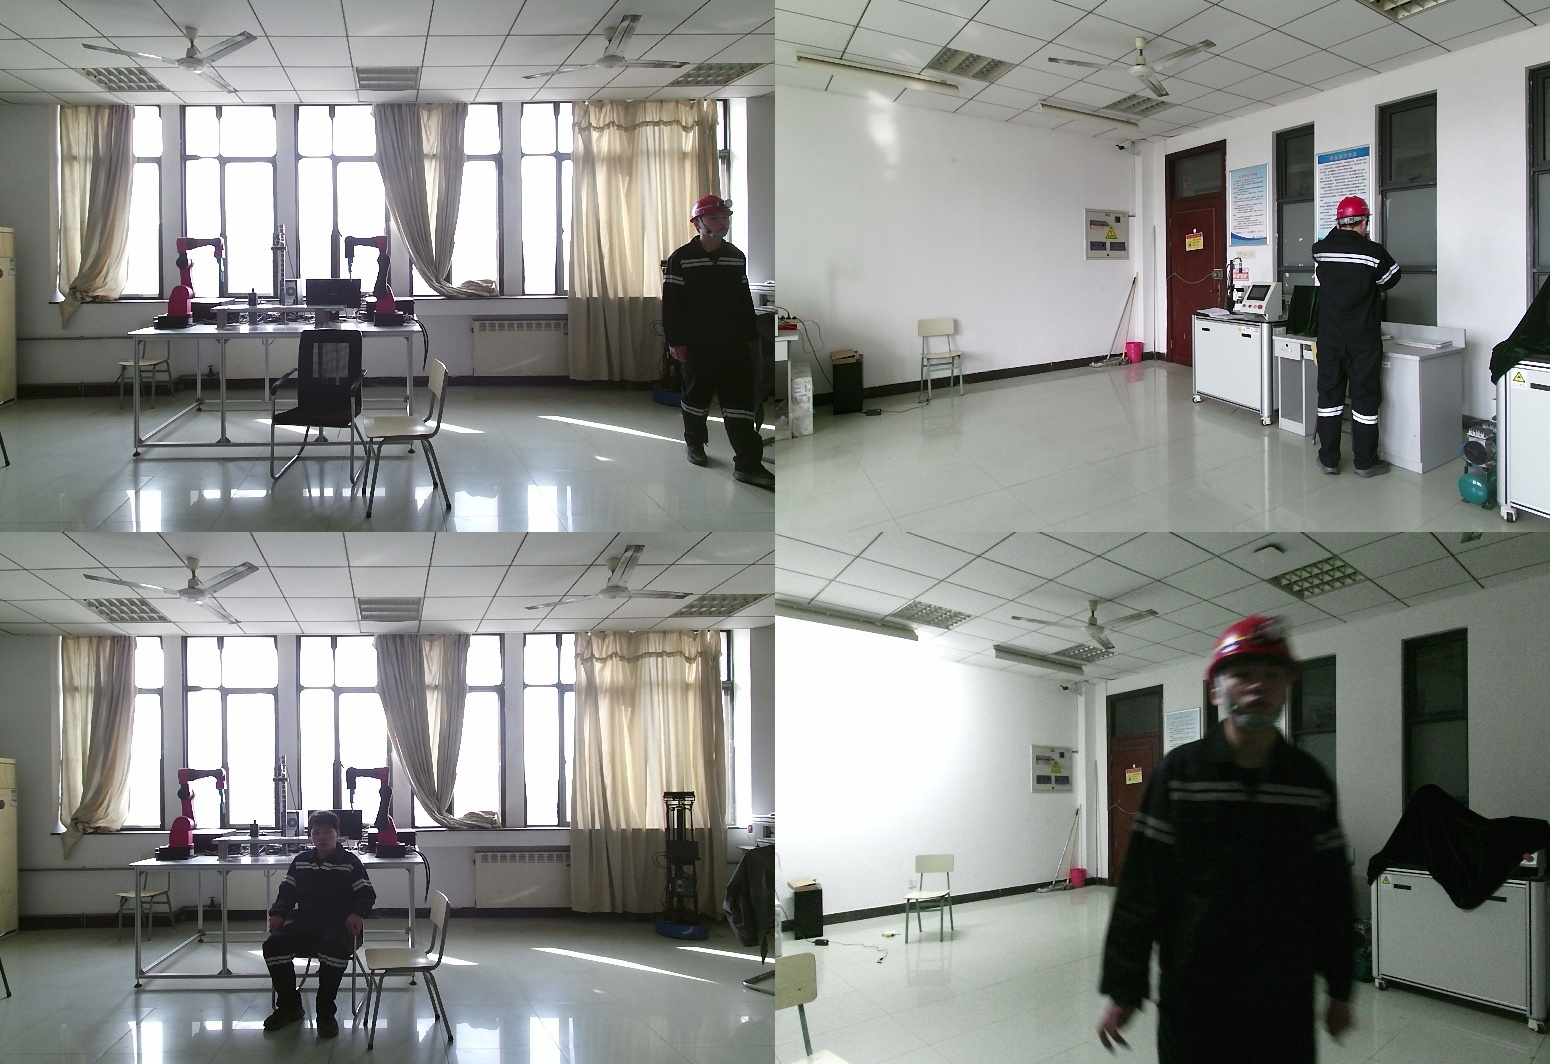person: (1101, 622, 1360, 1064), (1307, 195, 1428, 478), (662, 196, 775, 489), (261, 812, 383, 1030)
